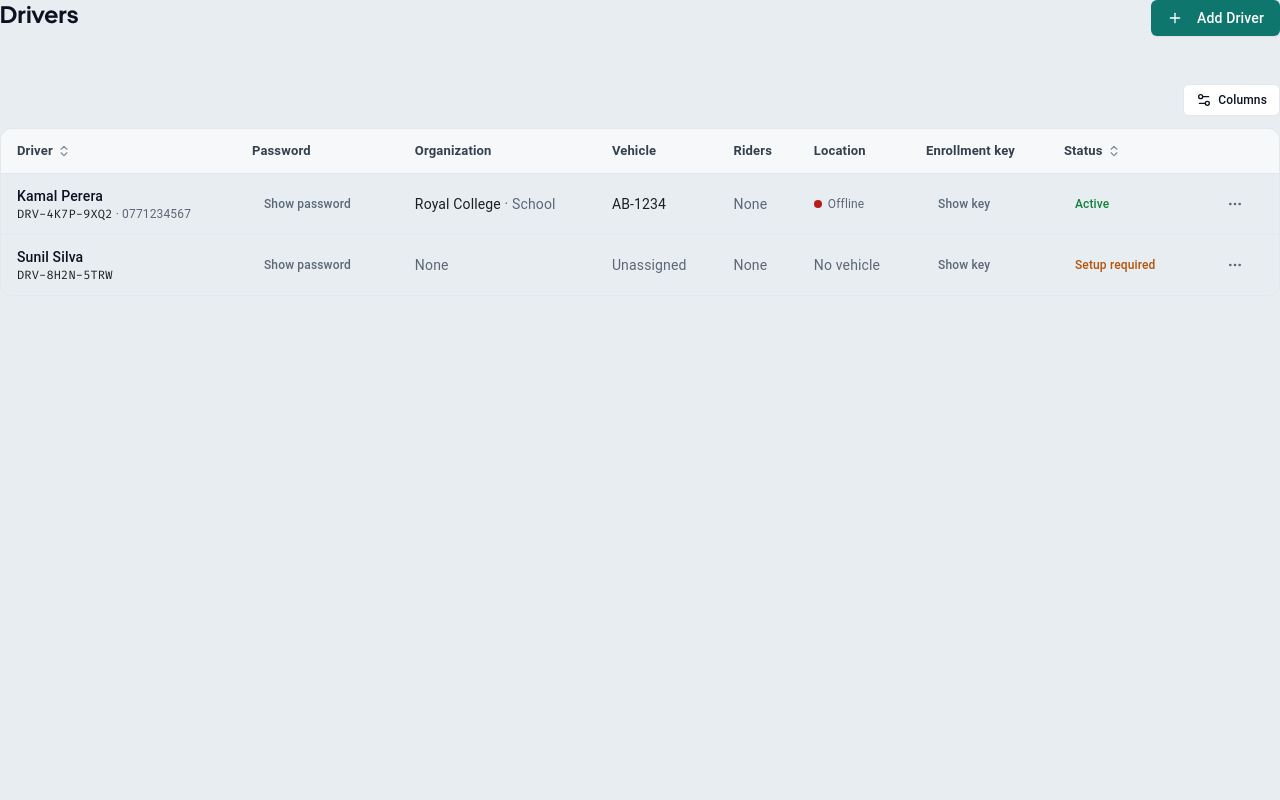
Test case: ManagerAccountsPage: enrollment key rotation › offers the undo only after a rotation has happened
Click the button named "Actions for Kamal Perera" at [1235, 204], box [1217,186,1253,222]
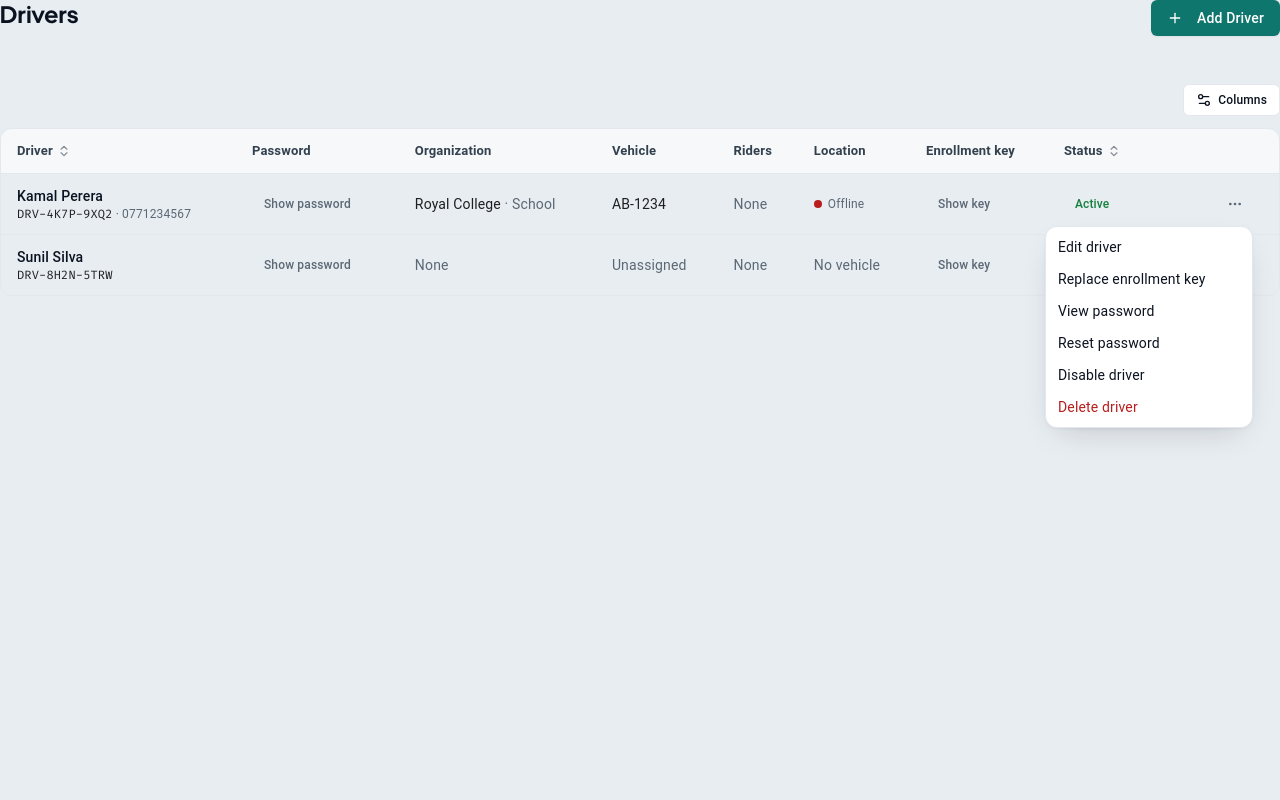
Expected: the menu item "restore previous key" is not shown
Click the menu item "Replace enrollment key" at [1132, 279], box [1058,271,1205,287]
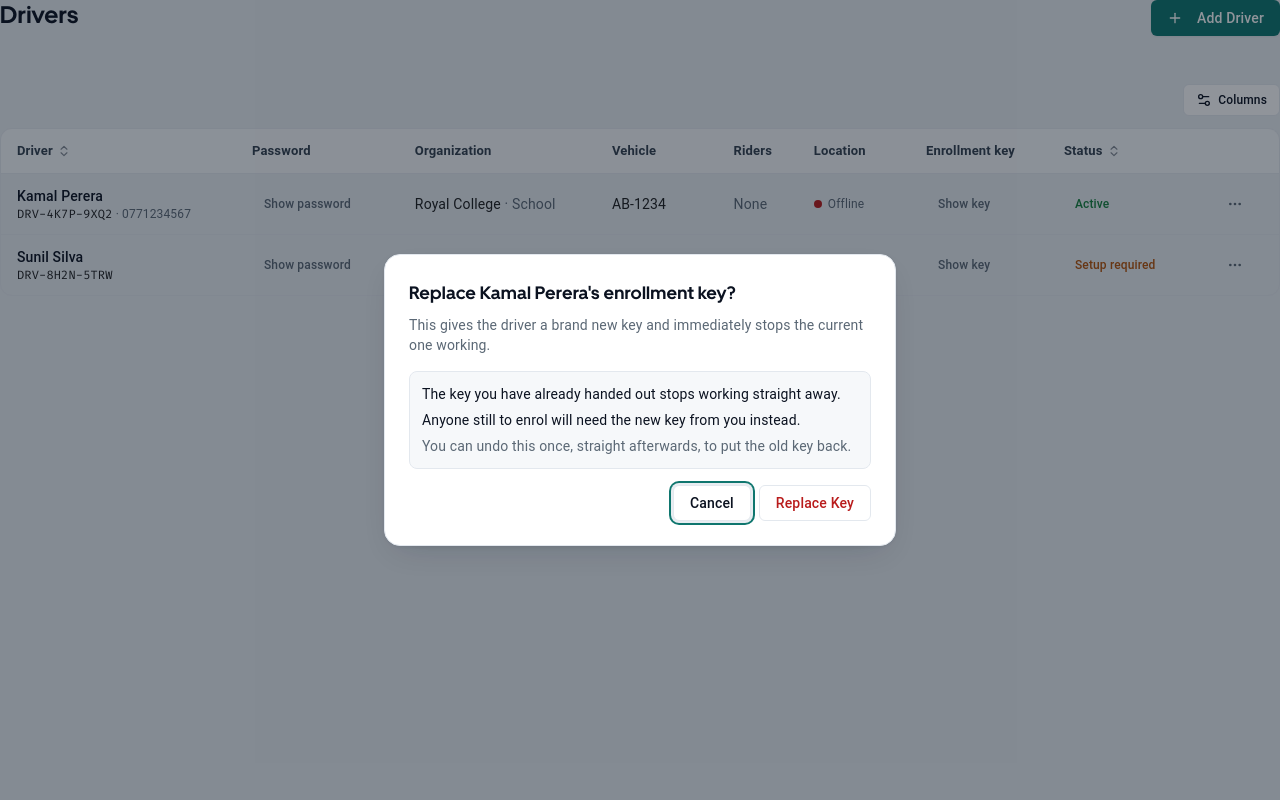
Click the button "Replace Key" at [815, 503], box [759,485,871,521]
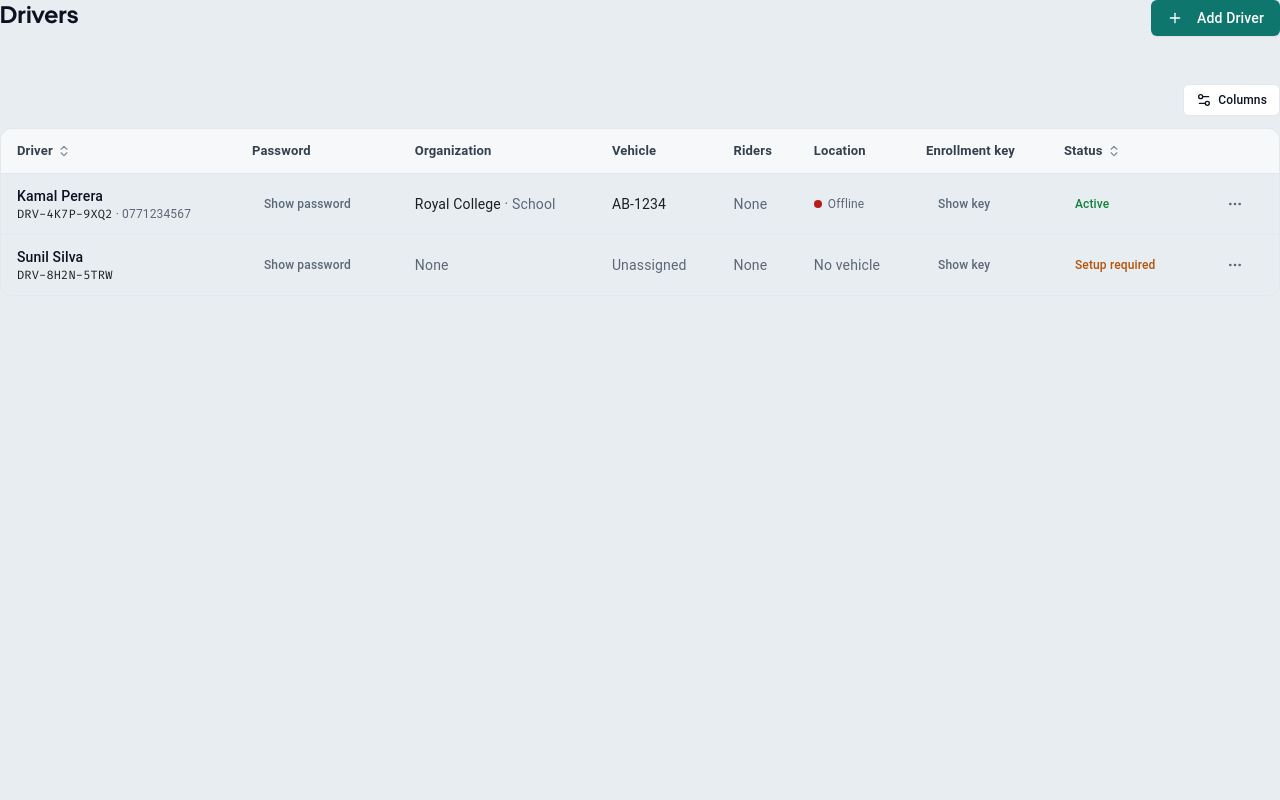
Click the button named "Actions for Kamal Perera" at [1235, 204], box [1217,186,1253,222]
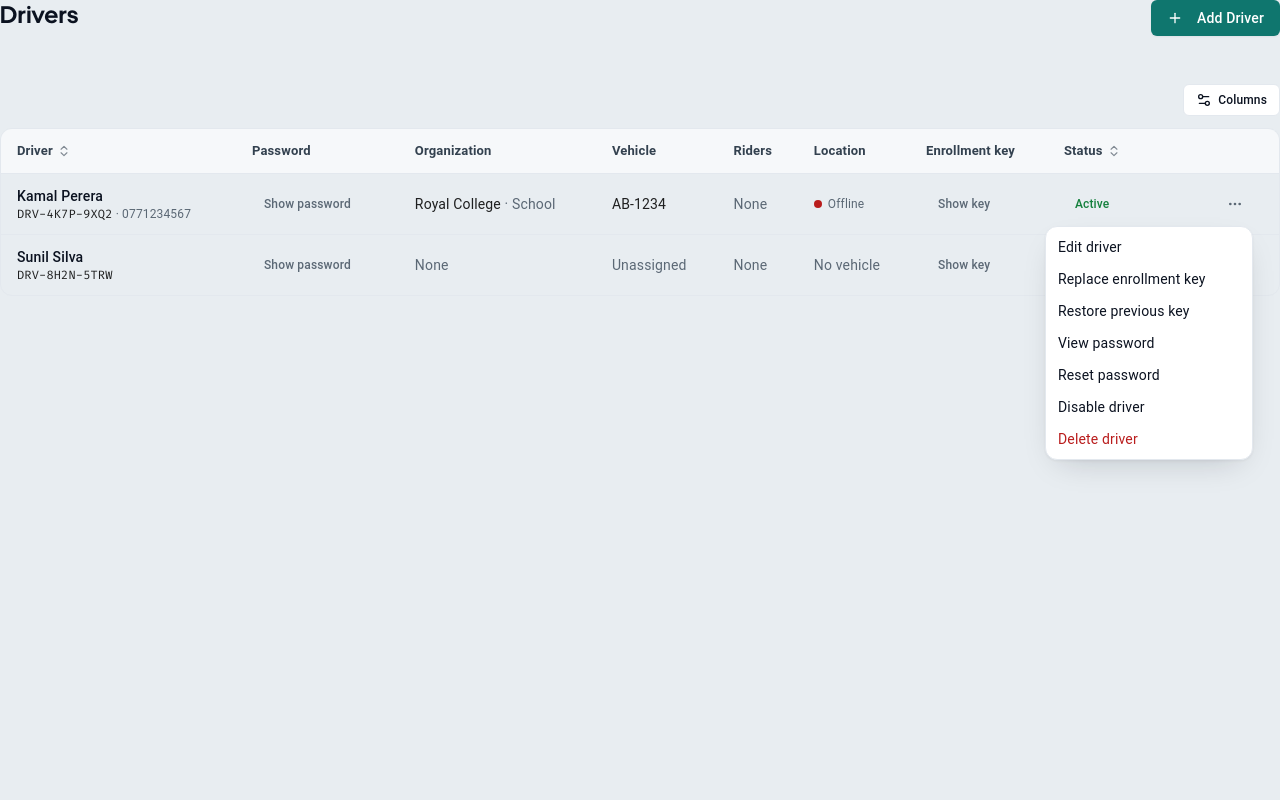
Result: the menu item "Restore previous key" is shown at [1058,303,1190,319]
